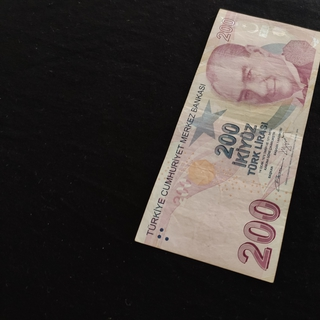200TLFront: (134, 7, 320, 284)
